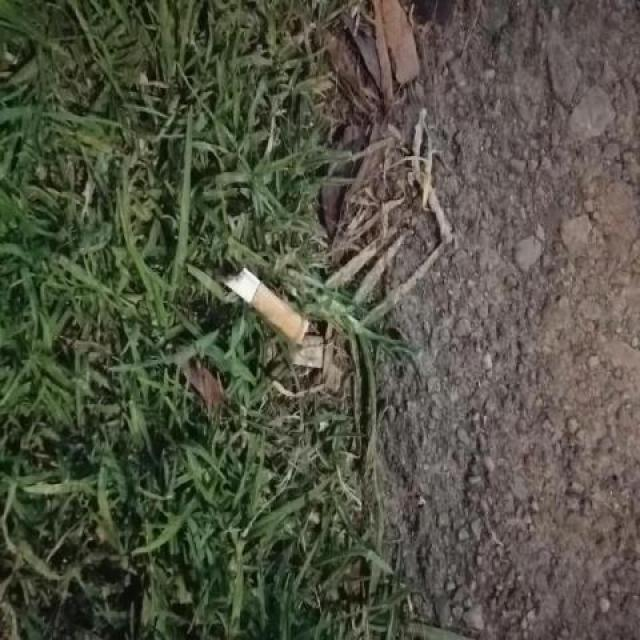non-organic waste: (222, 261, 313, 351)
